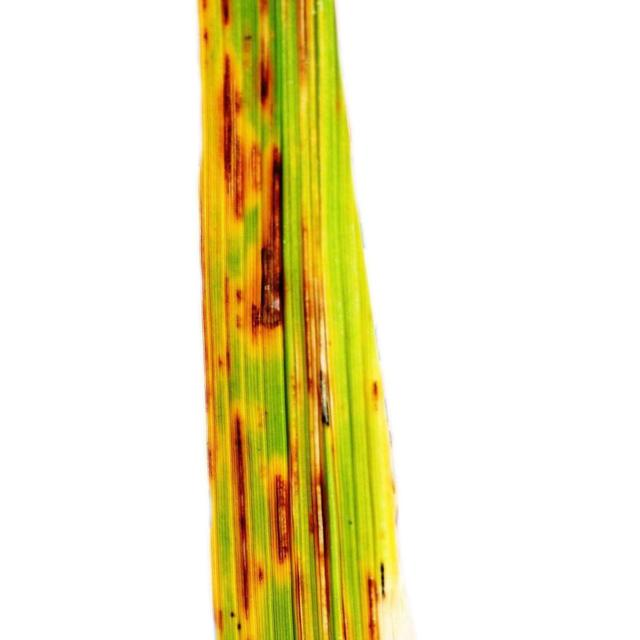Narrow brown: (173, 1, 411, 640)
